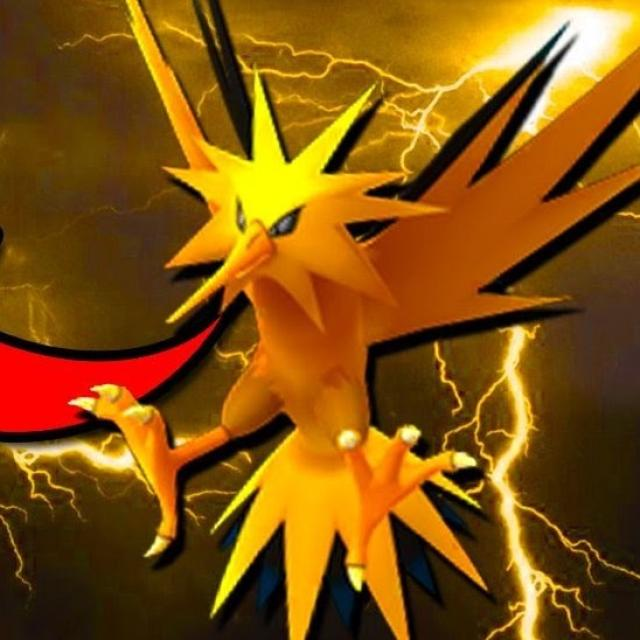Zapdos: (136, 72, 468, 592)
